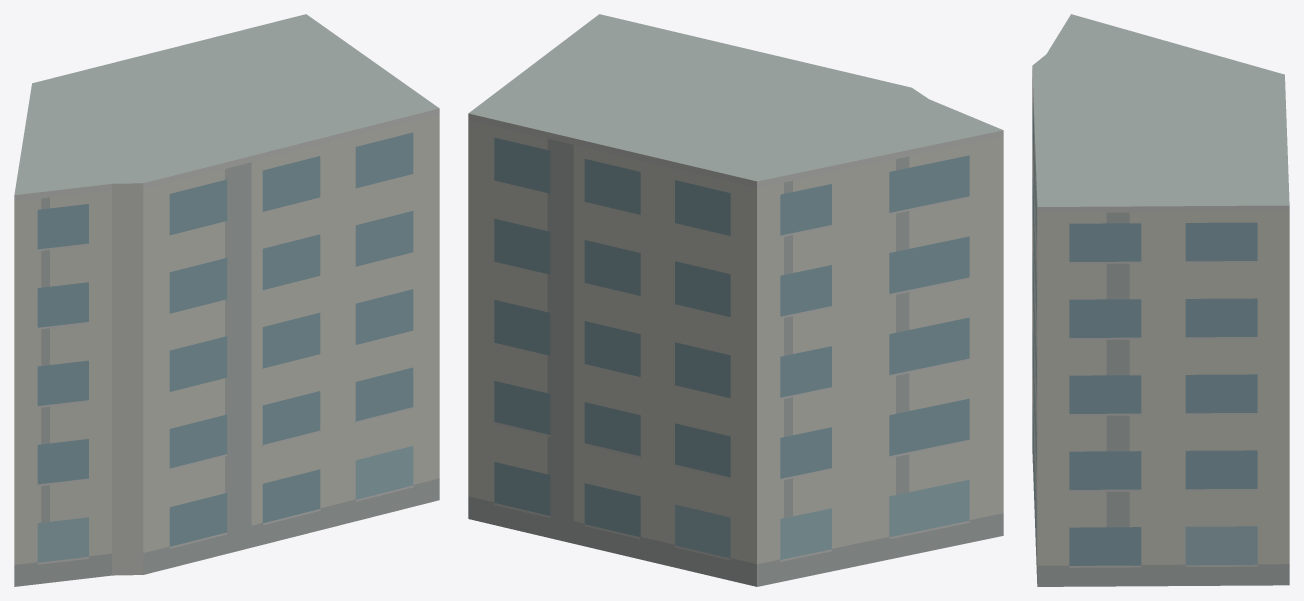
File: survey-upis-32550536.glb
3 views of the same model, side by side, from view 1: azimuth 30°, elevation 25°; view 2: azimuth 150°, elevation 25°; view 3: azimuth 270°, elevation 25° (orthographic). The views are drawn at different scales.
Parts seen in each view (by area): view 1: survey-upis-32550536.tmp; view 2: survey-upis-32550536.tmp; view 3: survey-upis-32550536.tmp.
Boxes of the visible parts, <box> form: survey-upis-32550536.tmp: <box>14,14,439,586</box>; survey-upis-32550536.tmp: <box>468,14,1003,586</box>; survey-upis-32550536.tmp: <box>1032,14,1289,586</box>.
Size of the model in its own units: 16.36 by 15 by 9.22.
